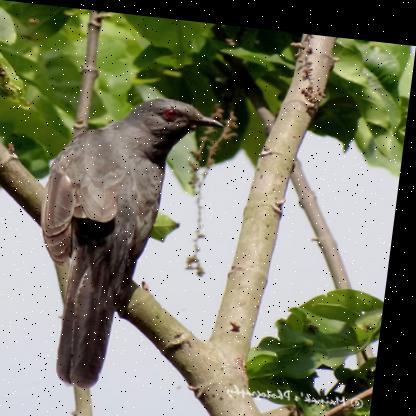Burung: (30, 84, 228, 394)
